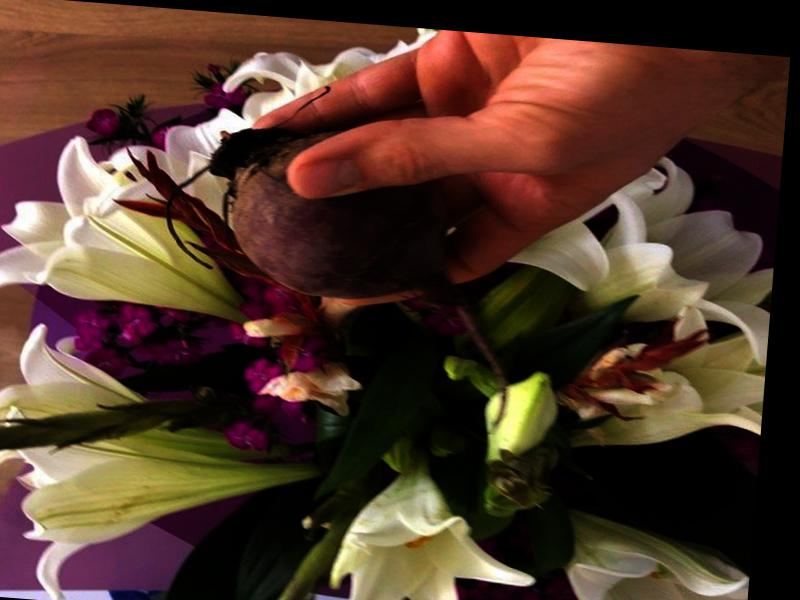Beet: (150, 119, 528, 430)
